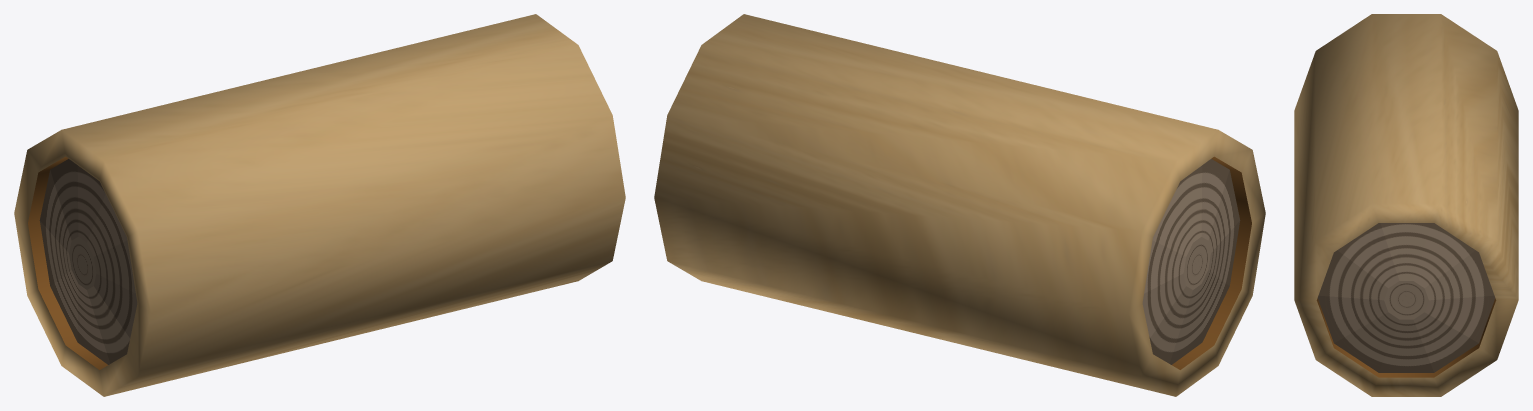
The model's file is item_woodbar.fbx.
The picture shows the model from 3 angles, left to right: view 1: azimuth 30°, elevation 25°; view 2: azimuth 150°, elevation 25°; view 3: azimuth 270°, elevation 25°; orthographic projection. The views are drawn at different scales.
Parts seen in each view (by area): view 1: Cylinder; view 2: Cylinder; view 3: Cylinder.
Part boxes in pixels (x1,y1,x2,y2): Cylinder: [14, 14, 625, 396]; Cylinder: [654, 14, 1265, 396]; Cylinder: [1294, 14, 1518, 396].
Bounding box in the file's own units: 400 × 190 × 200.
Materials: 3 (2 with a texture image).
